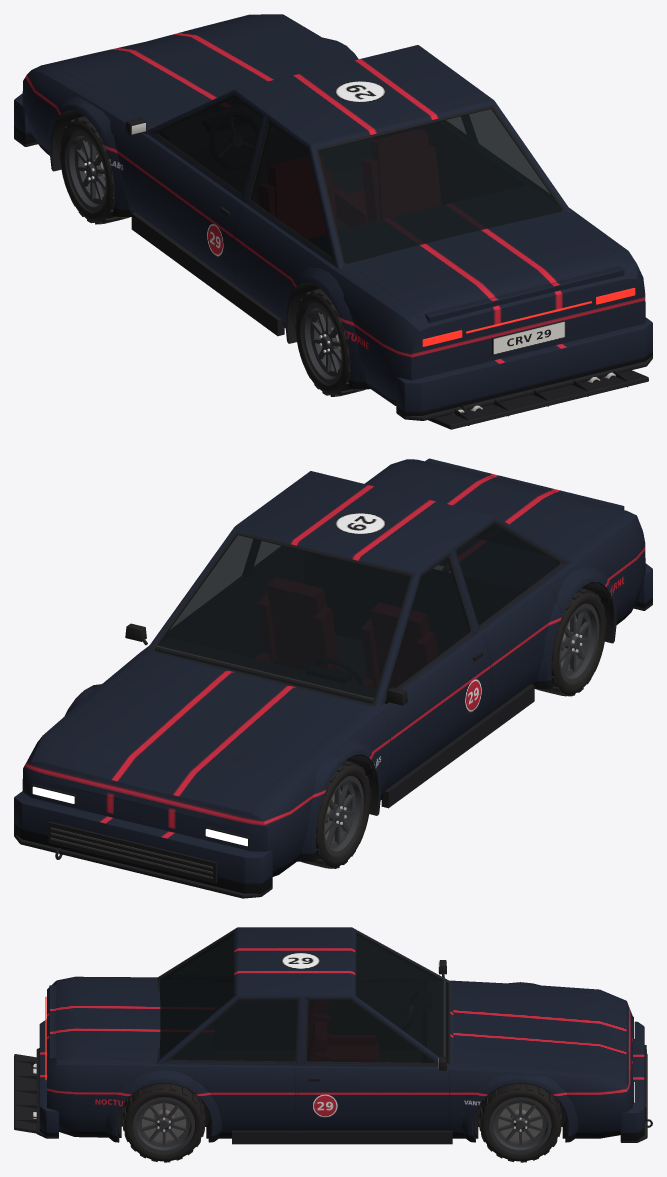
Rendered from CAR-029_Export.fbx.
The picture shows the model from 3 angles, top to bottom: view 1: azimuth 30°, elevation 25°; view 2: azimuth 150°, elevation 25°; view 3: azimuth 270°, elevation 25°; orthographic projection. The views are drawn at different scales.
Visible parts, largest first — view 1: CAR-029_Body, CAR-029_Glass, CAR-029_Bumper_Rear, CAR-029_Trim, CAR-029_Accessories, CAR-029_Wheel_RL_Rim, CAR-029_Wheel_FL_Rim, CAR-029_Wheel_RL_Tire, CAR-029_Wheel_FL_Tire, CAR-029_Spoiler, CAR-029_Lights, CAR-029_Bumper_Front; view 2: CAR-029_Body, CAR-029_Glass, CAR-029_Bumper_Front, CAR-029_Trim, CAR-029_Wheel_RL_Rim, CAR-029_Wheel_FL_Rim, CAR-029_Wheel_RL_Tire, CAR-029_Wheel_FL_Tire, CAR-029_Lights, CAR-029_Interior, CAR-029_Spoiler, CAR-029_Mirrors; view 3: CAR-029_Body, CAR-029_Glass, CAR-029_Trim, CAR-029_Wheel_FR_Rim, CAR-029_Wheel_RR_Rim, CAR-029_Wheel_FR_Tire, CAR-029_Wheel_RR_Tire, CAR-029_Bumper_Front, CAR-029_Accessories, CAR-029_Bumper_Rear, CAR-029_Spoiler.
Part boxes in pixels (bbox=[...]): CAR-029_Body: bbox=[22, 14, 645, 405]; CAR-029_Glass: bbox=[159, 97, 562, 263]; CAR-029_Bumper_Rear: bbox=[396, 317, 652, 420]; CAR-029_Trim: bbox=[131, 207, 615, 414]; CAR-029_Accessories: bbox=[428, 369, 648, 429]; CAR-029_Wheel_RL_Rim: bbox=[302, 304, 342, 384]; CAR-029_Wheel_FL_Rim: bbox=[67, 131, 106, 211]; CAR-029_Wheel_RL_Tire: bbox=[295, 288, 365, 396]; CAR-029_Wheel_FL_Tire: bbox=[60, 116, 129, 224]; CAR-029_Spoiler: bbox=[424, 266, 624, 323]; CAR-029_Lights: bbox=[422, 288, 635, 346]; CAR-029_Bumper_Front: bbox=[14, 93, 37, 146]; CAR-029_Body: bbox=[22, 459, 645, 876]; CAR-029_Glass: bbox=[155, 524, 559, 703]; CAR-029_Bumper_Front: bbox=[14, 791, 272, 898]; CAR-029_Trim: bbox=[48, 652, 534, 883]; CAR-029_Wheel_RL_Rim: bbox=[559, 603, 599, 683]; CAR-029_Wheel_FL_Rim: bbox=[323, 776, 363, 856]; CAR-029_Wheel_RL_Tire: bbox=[536, 588, 606, 696]; CAR-029_Wheel_FL_Tire: bbox=[301, 760, 370, 868]; CAR-029_Lights: bbox=[31, 784, 250, 847]; CAR-029_Interior: bbox=[155, 645, 374, 701]; CAR-029_Spoiler: bbox=[425, 458, 624, 509]; CAR-029_Mirrors: bbox=[125, 623, 407, 705]; CAR-029_Body: bbox=[47, 927, 632, 1142]; CAR-029_Glass: bbox=[159, 933, 447, 1062]; CAR-029_Trim: bbox=[31, 1045, 652, 1144]; CAR-029_Wheel_FR_Rim: bbox=[489, 1097, 551, 1153]; CAR-029_Wheel_RR_Rim: bbox=[133, 1097, 195, 1153]; CAR-029_Wheel_FR_Tire: bbox=[479, 1083, 561, 1162]; CAR-029_Wheel_RR_Tire: bbox=[122, 1083, 205, 1162]; CAR-029_Bumper_Front: bbox=[620, 1021, 647, 1142]; CAR-029_Accessories: bbox=[14, 1054, 39, 1133]; CAR-029_Bumper_Rear: bbox=[36, 1019, 58, 1138]; CAR-029_Spoiler: bbox=[49, 985, 56, 1061].
Size of the model in its own units: 1.99 by 1.4 by 5.23.
Materials: 14 (2 with a texture image).
